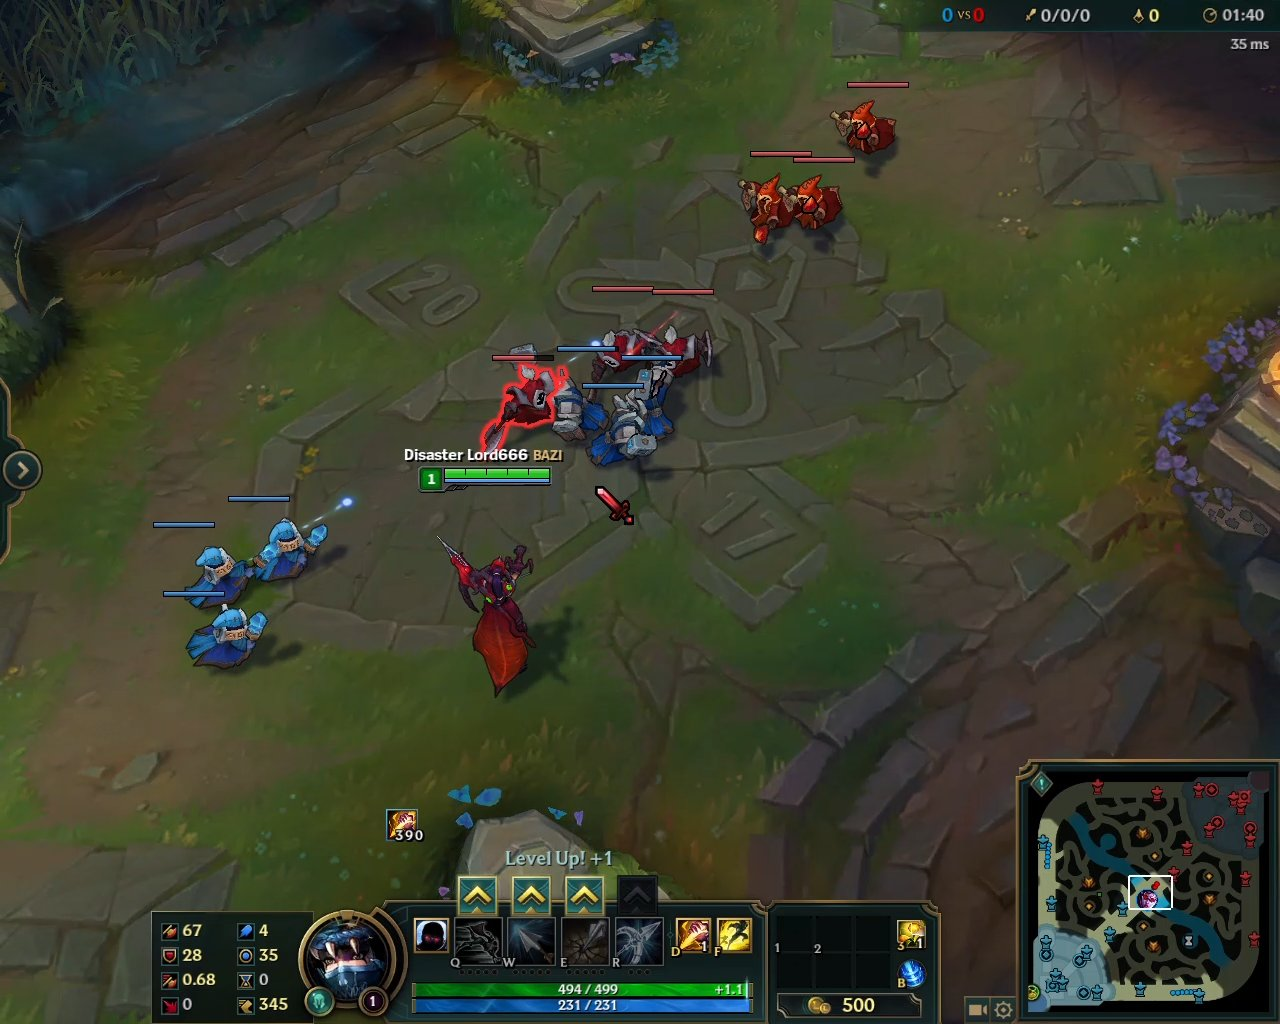EnemyMinion: (480, 347, 561, 461), (583, 283, 656, 385), (734, 148, 809, 247), (649, 286, 716, 388), (832, 80, 908, 161), (782, 156, 855, 231)
Vayne: (430, 532, 546, 705)
